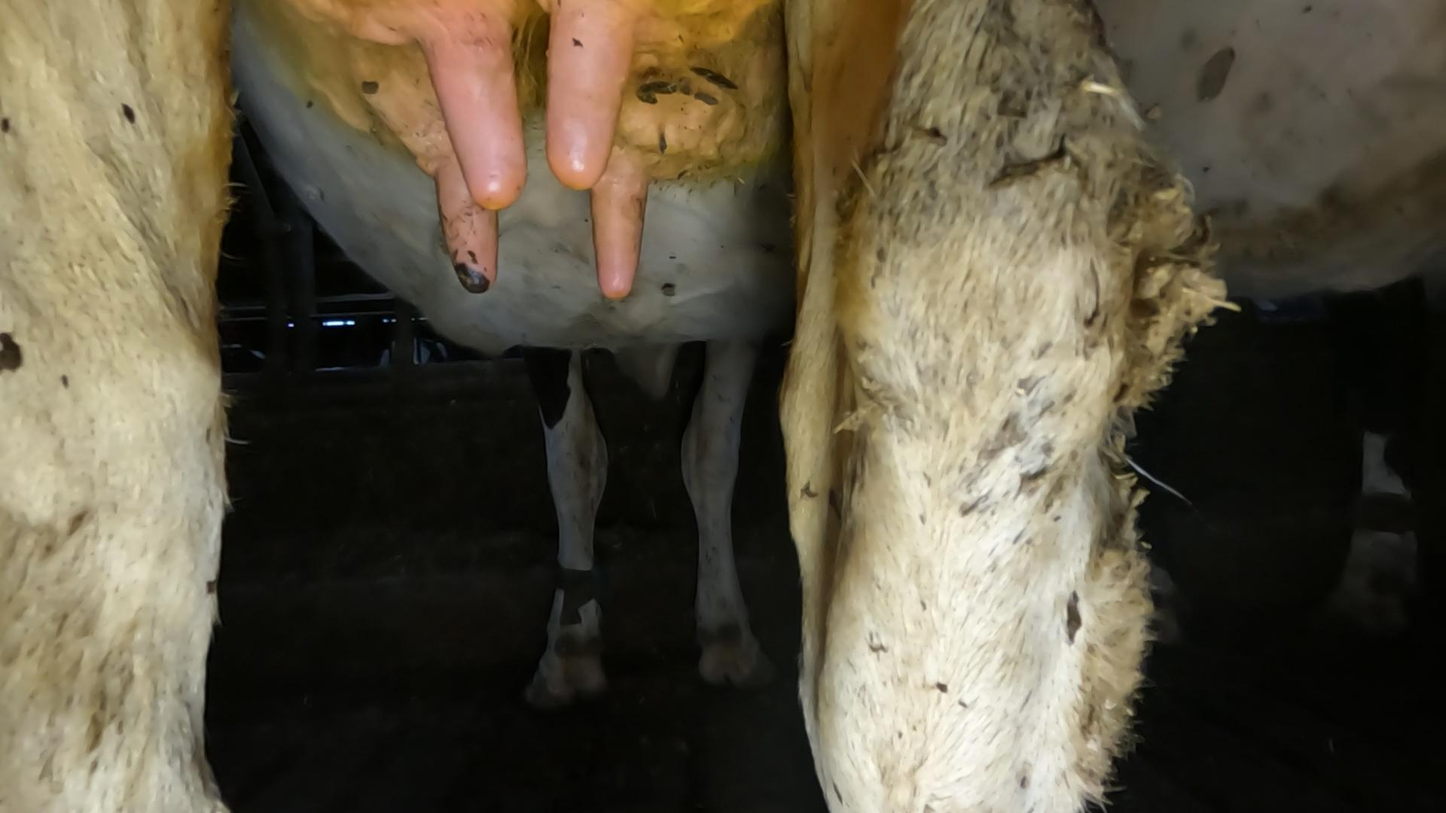Zitze: (403, 23, 537, 214), (528, 8, 630, 198), (585, 161, 672, 304), (434, 164, 506, 303)
